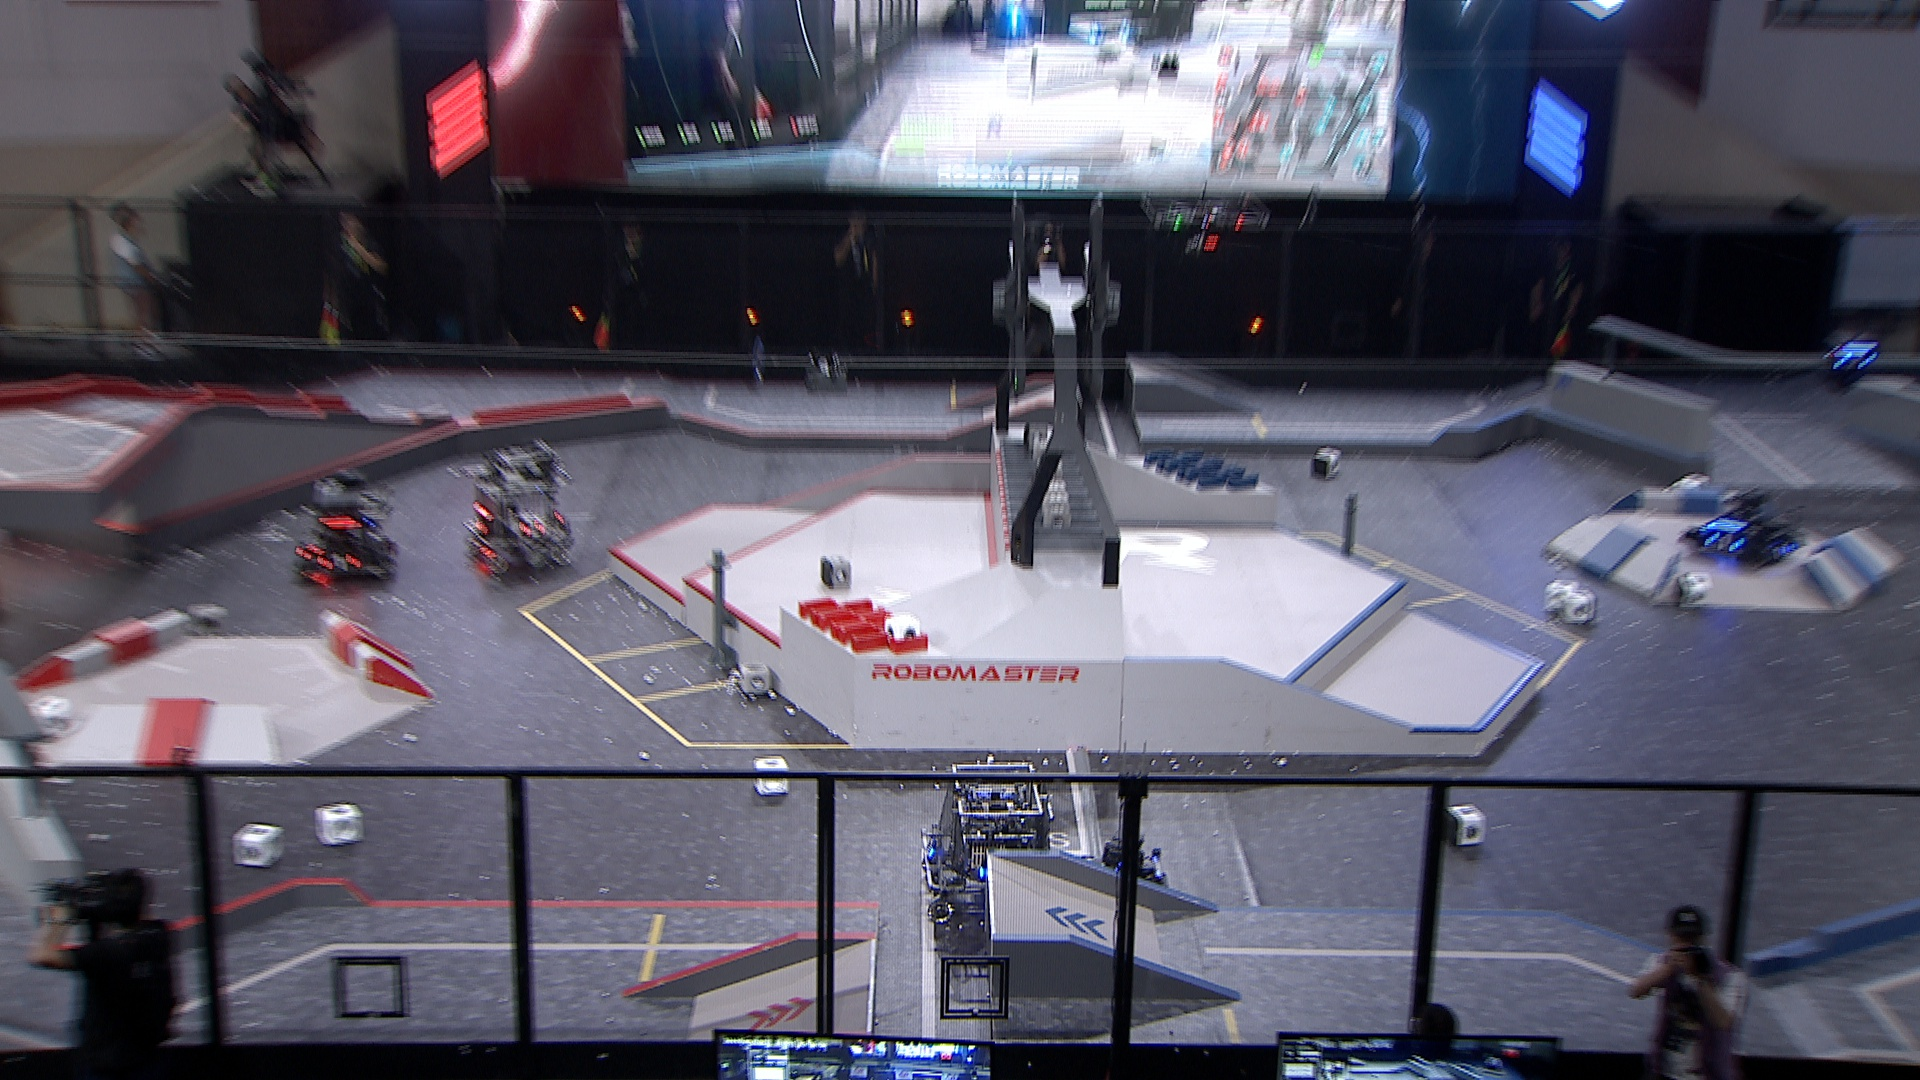armor: (318, 553, 363, 572), (1702, 531, 1741, 553), (1833, 356, 1870, 372), (520, 520, 547, 541), (297, 543, 320, 566), (1771, 541, 1797, 556), (472, 517, 491, 537), (924, 837, 939, 861)
car: (920, 760, 1059, 924), (460, 436, 575, 574), (1060, 828, 1179, 928), (295, 469, 398, 583), (1680, 485, 1807, 571)
ignore: (996, 7, 1031, 40)
watcher: (1822, 335, 1882, 392)
